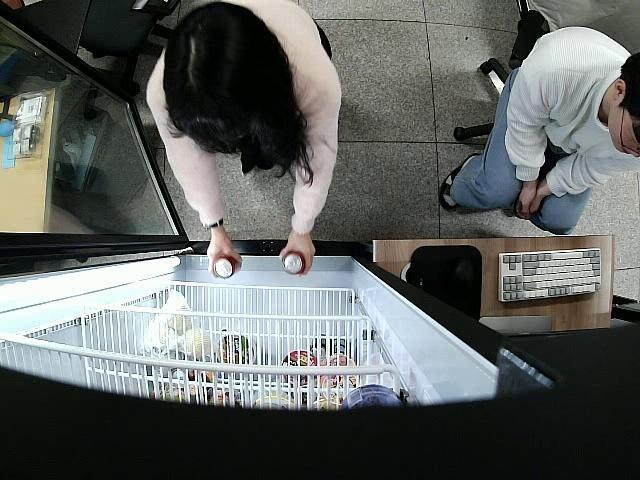11_cocaColaZero: (214, 253, 243, 279), (280, 250, 306, 276)
